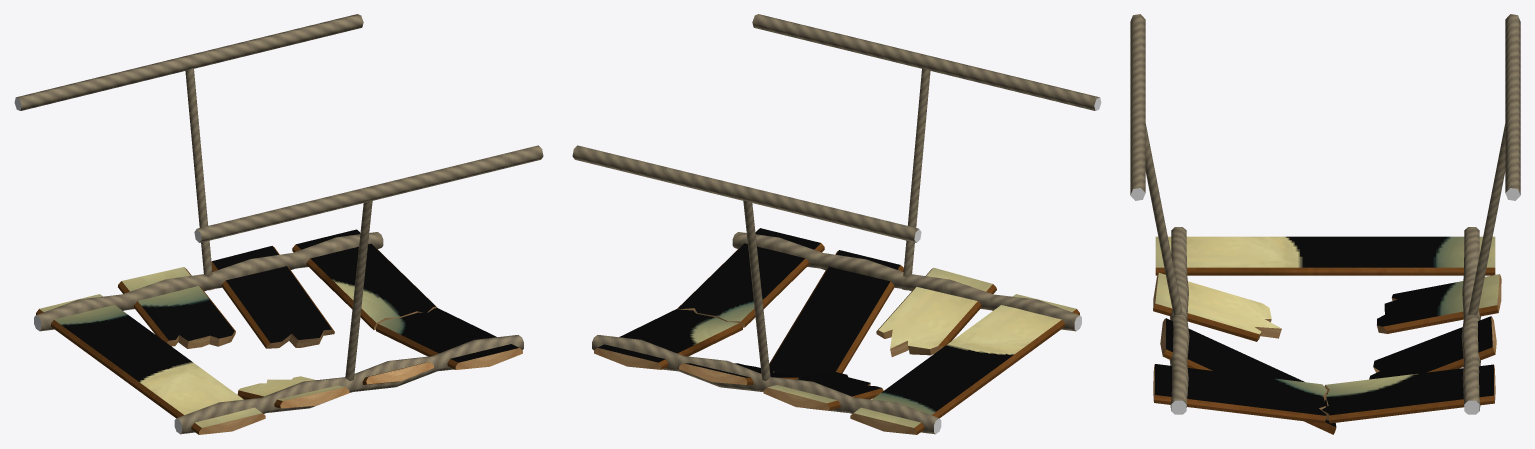
File: Prop_Bridge_Rope_Middle_Cracked_2_1x1.fbx
3 views of the same model, side by side, from view 1: azimuth 30°, elevation 25°; view 2: azimuth 150°, elevation 25°; view 3: azimuth 270°, elevation 25° (orthographic). The views are drawn at different scales.
Parts seen in each view (by area): view 1: Prop_Bridge_Rope_Middle_Cracked_2_1x1; view 2: Prop_Bridge_Rope_Middle_Cracked_2_1x1; view 3: Prop_Bridge_Rope_Middle_Cracked_2_1x1.
Part boxes in pixels (x1,y1,x2,y2): Prop_Bridge_Rope_Middle_Cracked_2_1x1: (14, 14, 543, 434); Prop_Bridge_Rope_Middle_Cracked_2_1x1: (572, 14, 1101, 434); Prop_Bridge_Rope_Middle_Cracked_2_1x1: (1130, 14, 1520, 434).
Bounding box in the file's own units: 100 × 79.68 × 94.84.
